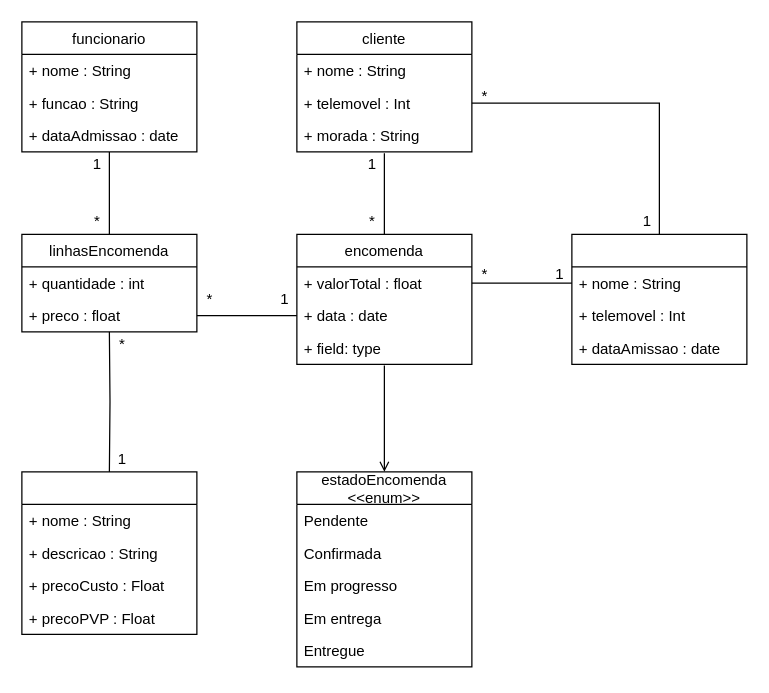
The diagram is 769 pixels wide and 693 high, and some of its shapes have lost their labels. The box of each missing label's shape, as (x1, y1, x2, y2) in pixels:
estafeta: (571, 233, 747, 364)
menu: (21, 471, 197, 634)
